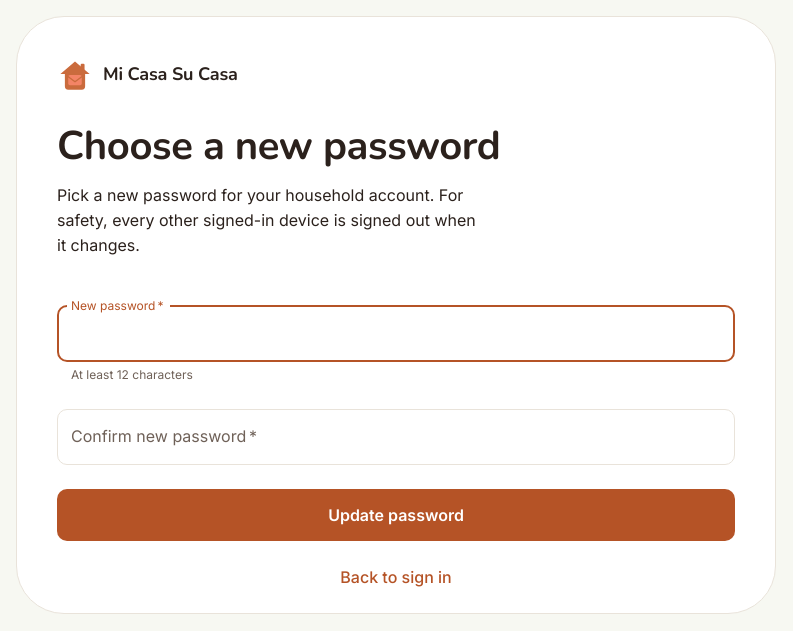
password reset pages › sends the token and the new password, then confirms
In the password field labelled "New password *": [396, 334] box [57,306,735,362], type "a-much-longer-new-password"
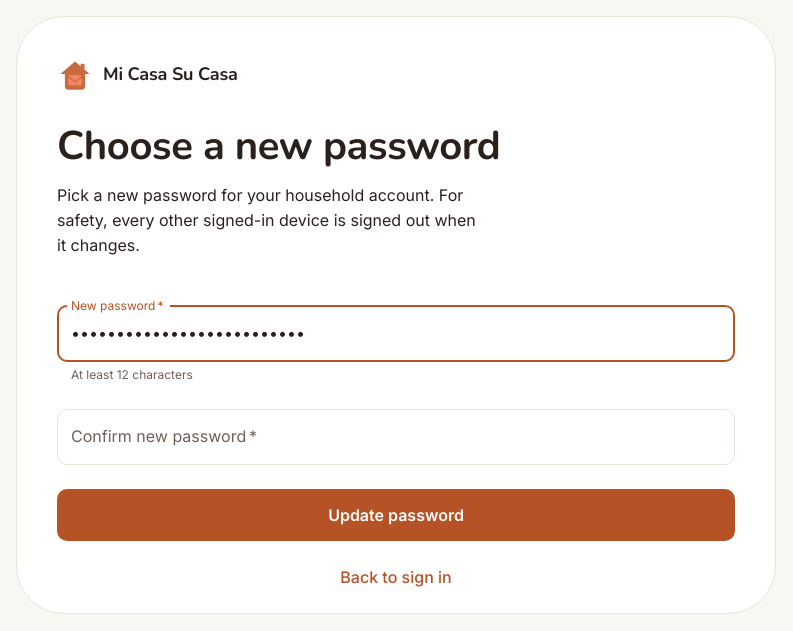
In the password field labelled "Confirm new password *": [396, 437] box [57,409,735,465], type "a-much-longer-new-password"
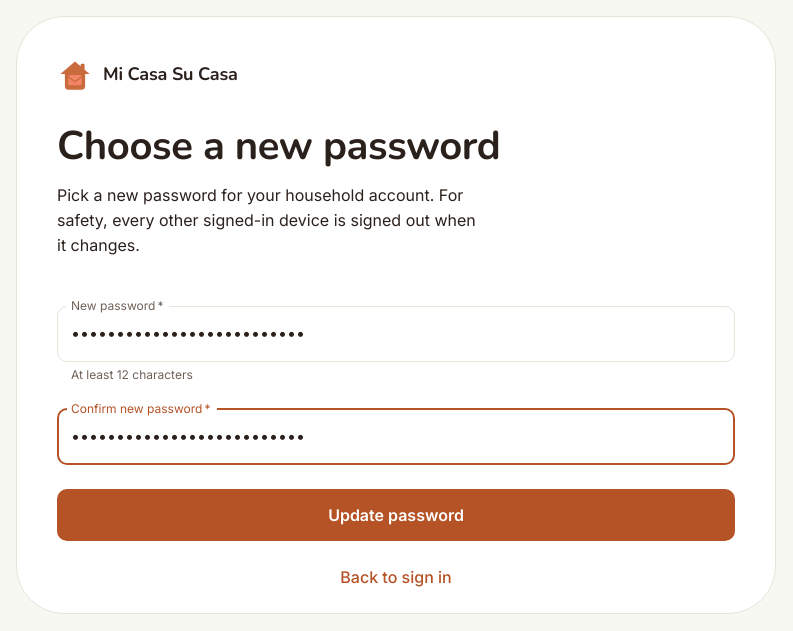
Click the button "Update password": [396, 515] box [57,489,735,541]
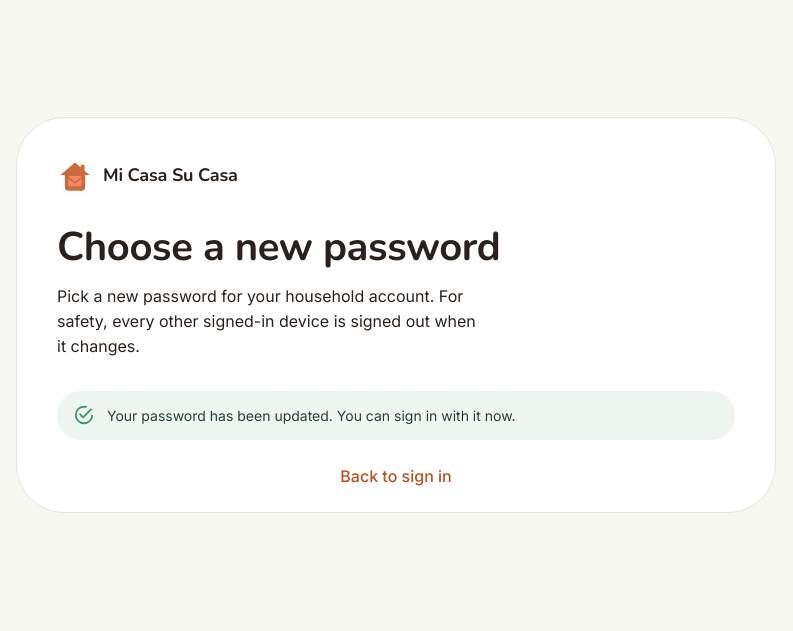
Check: the text "Your password has been updated. You can sign in with it now." is shown, box [107,407,516,424]
